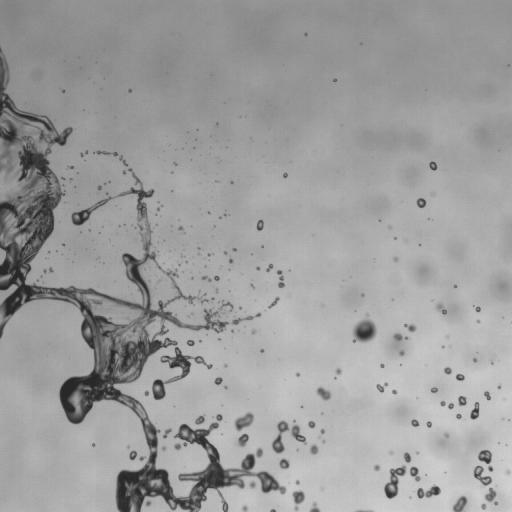droplet: (384, 465, 420, 498), (271, 420, 306, 453), (352, 313, 377, 343), (234, 412, 253, 431), (478, 450, 492, 471), (292, 490, 305, 511), (484, 487, 498, 505), (452, 496, 467, 511), (316, 387, 331, 400), (237, 434, 249, 447), (470, 402, 479, 419), (435, 302, 446, 314), (376, 382, 388, 392), (279, 458, 289, 469), (309, 502, 320, 511), (404, 324, 416, 332), (416, 198, 426, 207), (195, 415, 204, 424), (310, 444, 318, 454), (129, 450, 137, 460), (403, 452, 411, 462), (256, 219, 263, 230), (393, 333, 404, 340), (429, 161, 437, 170), (458, 396, 466, 405), (456, 373, 464, 380), (214, 377, 222, 384), (266, 264, 273, 271), (444, 367, 451, 374), (411, 419, 418, 426), (308, 421, 315, 428), (373, 464, 380, 471), (249, 481, 256, 488), (484, 391, 490, 399), (187, 340, 194, 346), (335, 368, 341, 374), (431, 387, 437, 393), (426, 421, 431, 427), (242, 505, 247, 511), (214, 275, 219, 280), (475, 306, 480, 311), (399, 350, 404, 355), (481, 504, 486, 509), (80, 152, 86, 156), (67, 165, 73, 169), (283, 172, 287, 177), (97, 185, 101, 190), (178, 226, 183, 230), (229, 258, 233, 263), (251, 330, 256, 334), (392, 389, 396, 394), (144, 391, 148, 396), (456, 414, 461, 418), (320, 429, 324, 434), (444, 433, 449, 437), (506, 469, 510, 474), (157, 206, 161, 210), (394, 257, 398, 261), (157, 278, 161, 282), (250, 284, 254, 288), (473, 358, 477, 362), (260, 349, 263, 353), (380, 364, 384, 367), (162, 446, 165, 450), (233, 248, 236, 251), (256, 267, 259, 270), (296, 373, 299, 376), (497, 385, 500, 388), (389, 451, 392, 454), (296, 481, 299, 484), (304, 33, 307, 35), (334, 78, 336, 81), (128, 89, 131, 91), (174, 162, 176, 165), (123, 171, 126, 173), (239, 306, 241, 309), (491, 360, 493, 363), (62, 90, 64, 92), (62, 177, 64, 179), (389, 226, 391, 228), (208, 253, 210, 255), (224, 252, 226, 254), (454, 285, 456, 287), (199, 339, 201, 341), (92, 444, 94, 446)
ligament: (0, 47, 283, 511), (71, 195, 112, 225), (96, 151, 126, 165), (230, 312, 261, 325), (473, 465, 491, 485), (417, 485, 441, 498), (268, 296, 279, 307), (277, 270, 284, 287), (440, 401, 453, 409), (163, 428, 171, 438), (202, 275, 211, 281), (44, 268, 52, 272), (355, 510, 373, 511), (270, 509, 276, 511)
